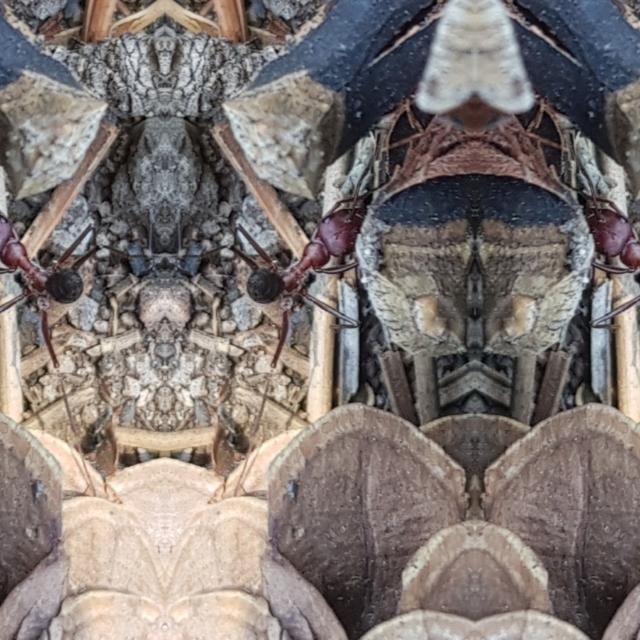Cataglyphis: (229, 162, 383, 362), (0, 160, 98, 361), (566, 160, 640, 362)
